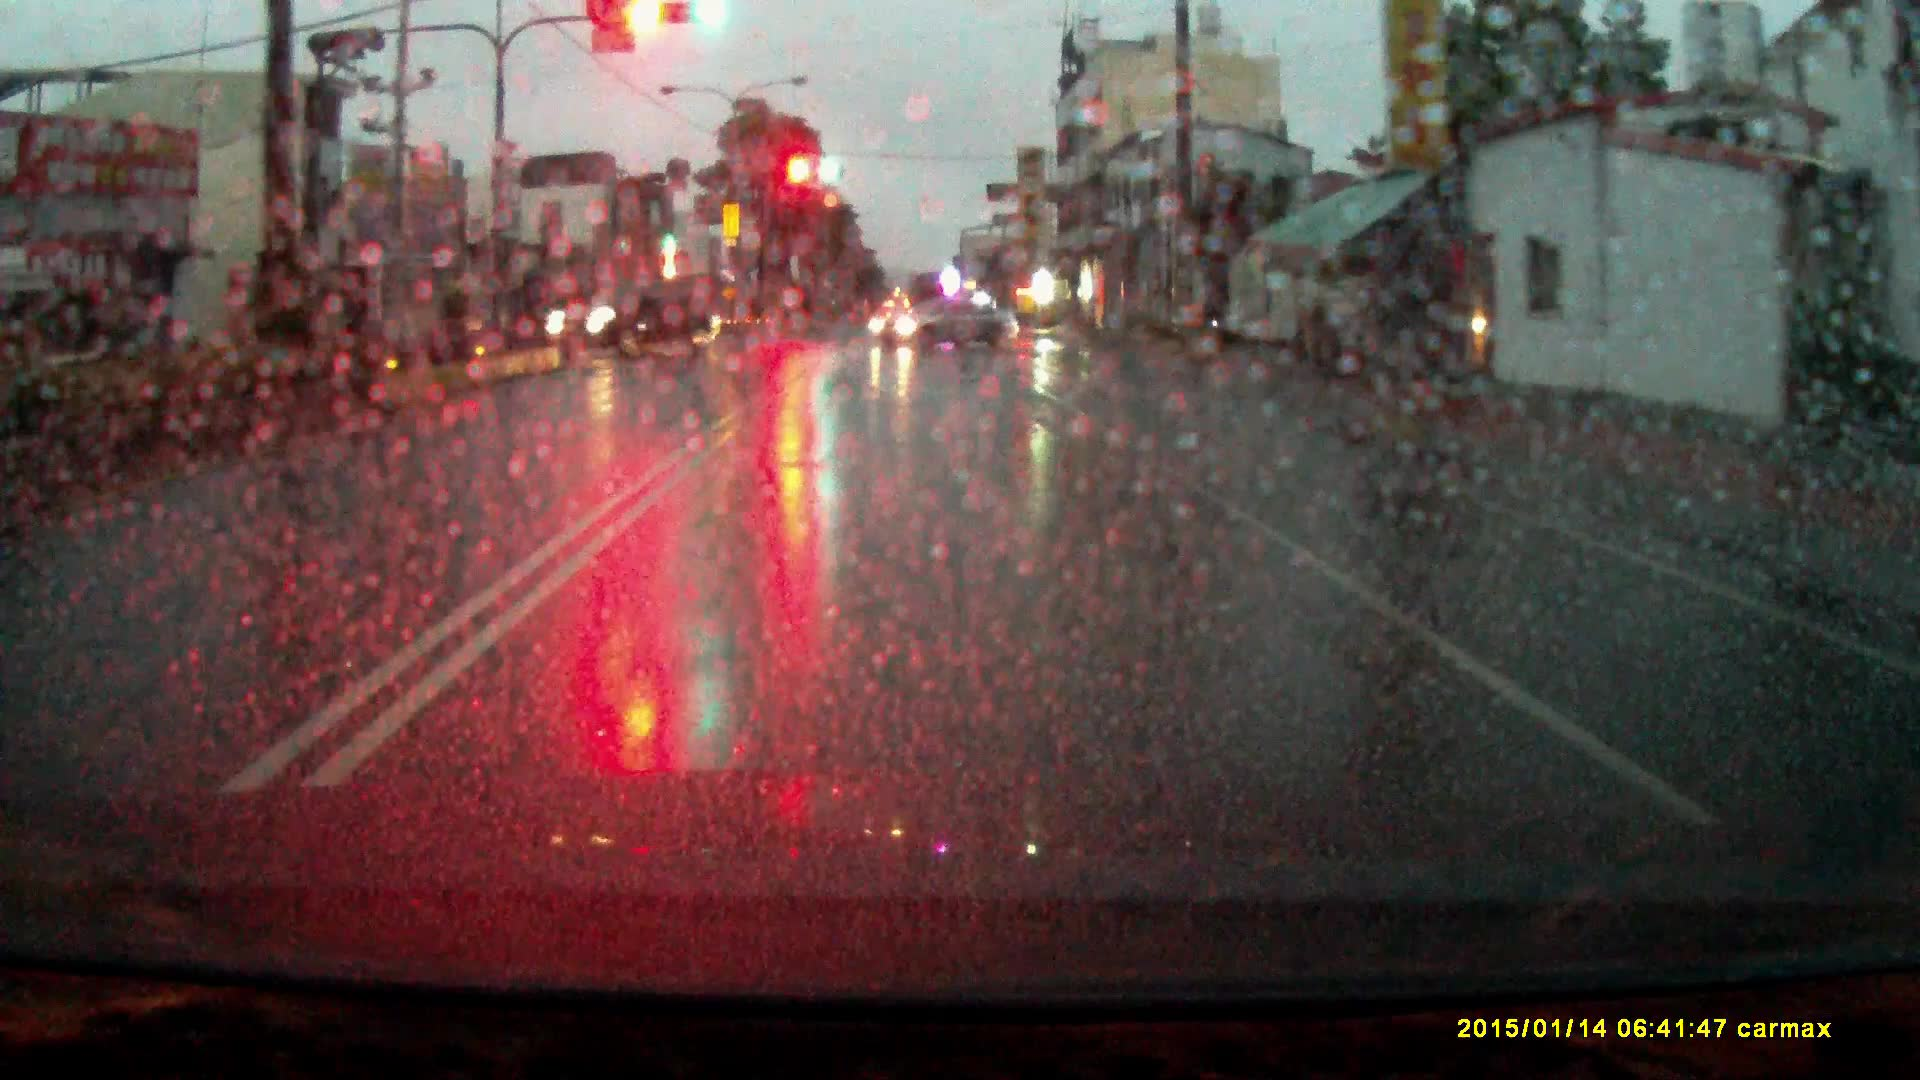vehicle: (546, 274, 724, 361), (872, 290, 1023, 345)
